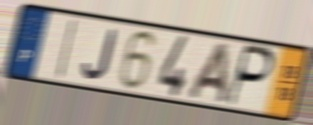4: (157, 32, 190, 100)
6: (117, 29, 159, 93)
A: (184, 40, 230, 106)
I: (54, 17, 80, 81)
J: (81, 27, 120, 82)
P: (225, 43, 277, 109)
